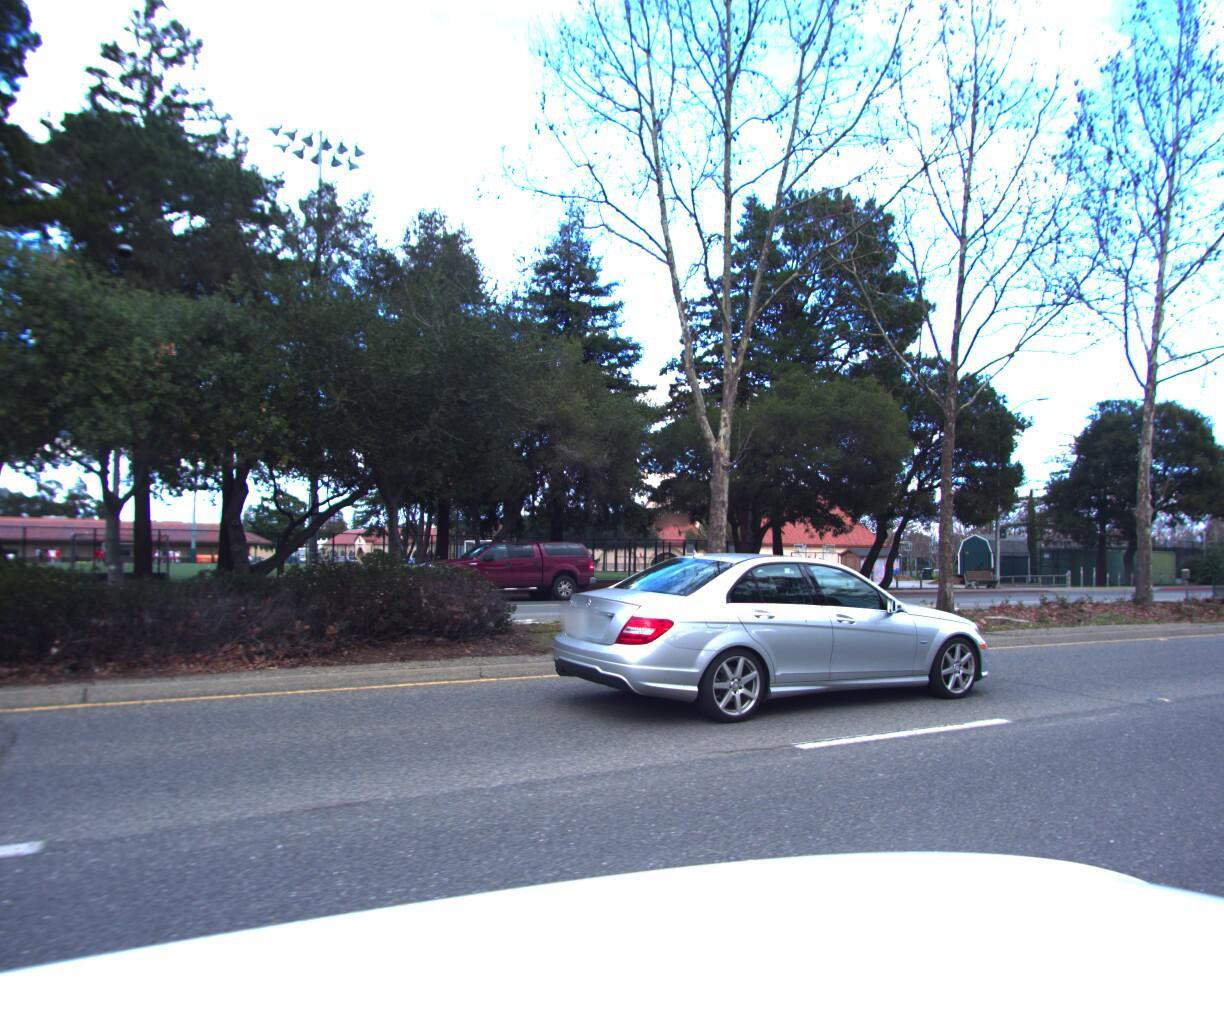car: (527, 530, 999, 731), (405, 534, 617, 600)
